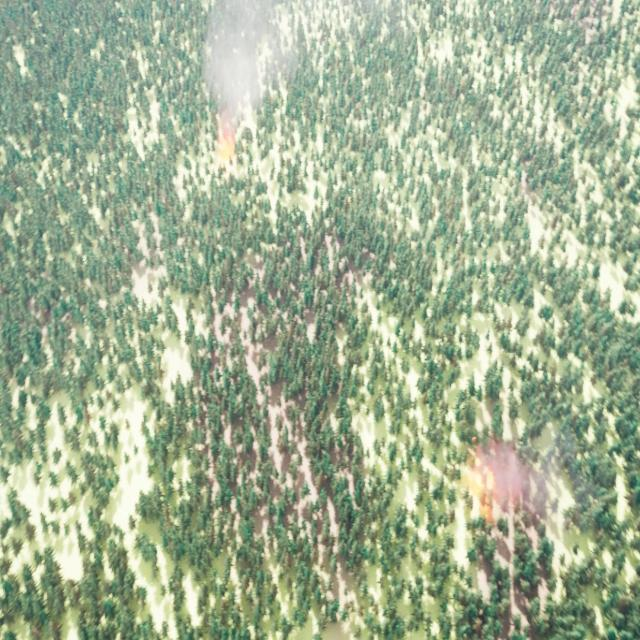fire: (463, 448, 497, 528), (211, 132, 238, 166)
smoke: (202, 0, 303, 121), (484, 439, 558, 514)
